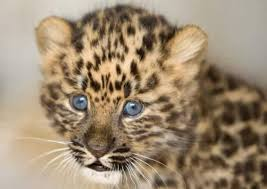leopard: (34, 5, 266, 185)
